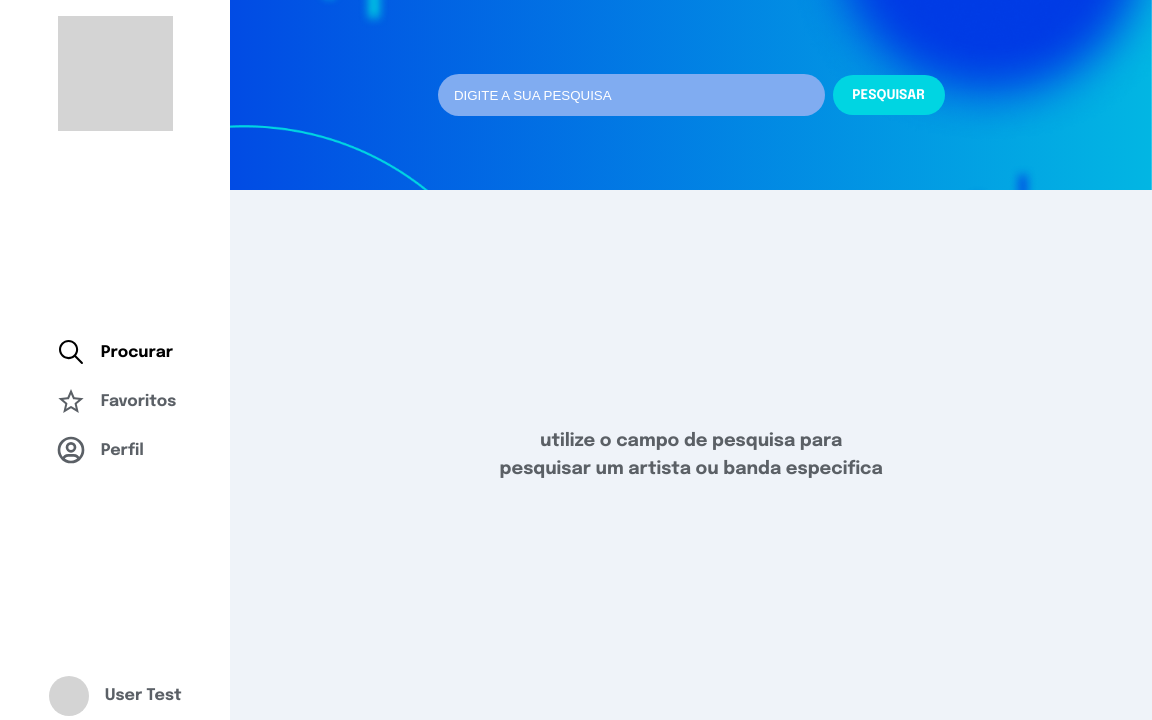
Scenario: Testando os links de navegação no cabeçalho › Testando se a navegação entre a página de pesquisa e a página de músicas favoritas ocorre corretamente
Click the link with test id "link-to-favorites". click: coordinates (115, 401)
box: x1=55 y1=377 x2=176 y2=426
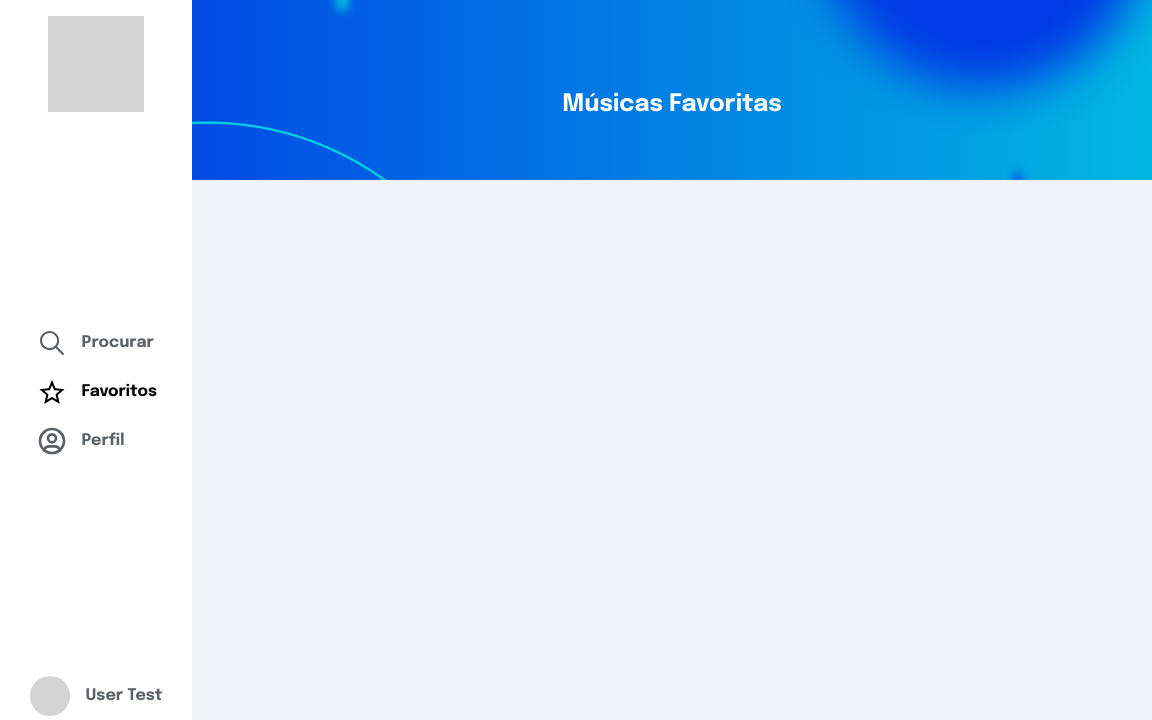
expect the element with test id "page-favorites" is shown: met
